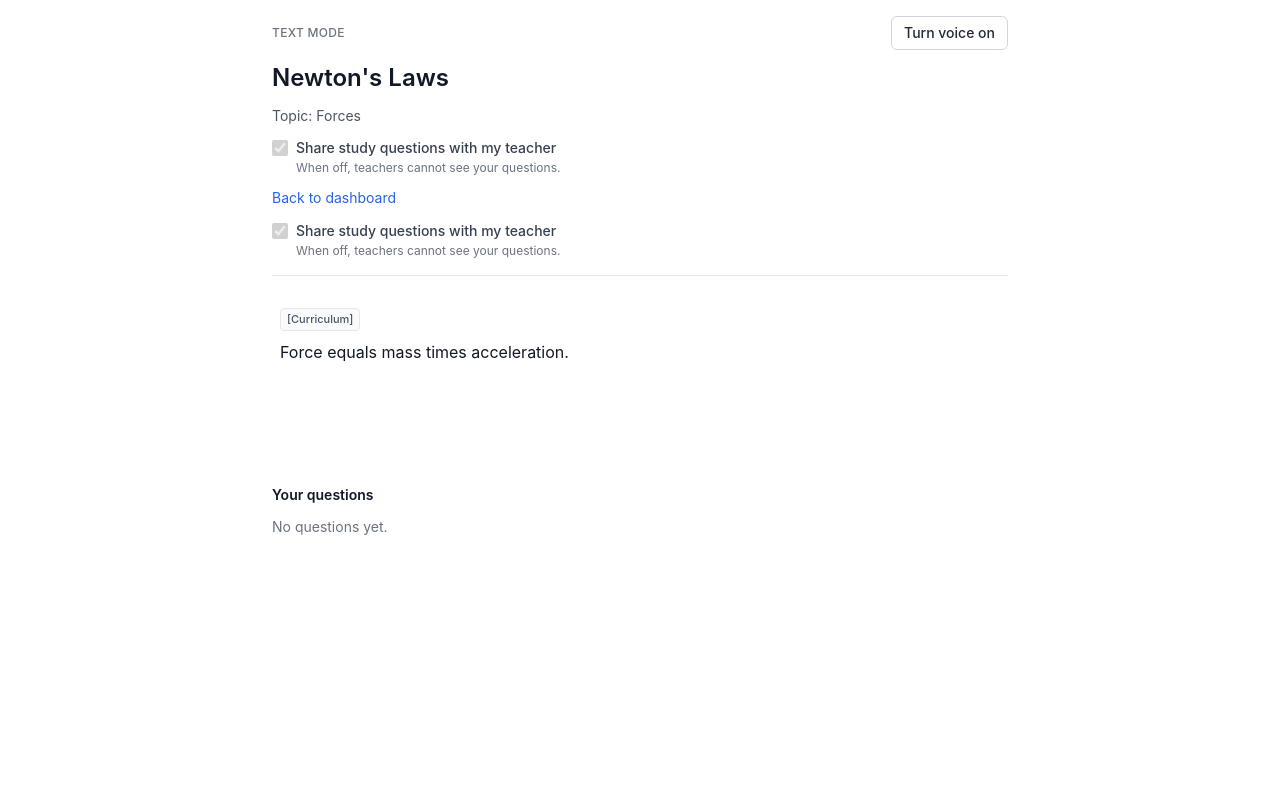
Test: LectureViewerClient karaoke (T-154) › toggles voice mode, sets session mode, and shows karaoke controls
This screenshot has width=1280, height=800.
Expected: the element with test id "lecture-viewer" is shown, [272,16,1008,534]
What coordinates should you click on to do the following:
click the button with test id "voice-mode-toggle"
I would click on:
 (950, 33)
Its box is [891,16,1008,50].
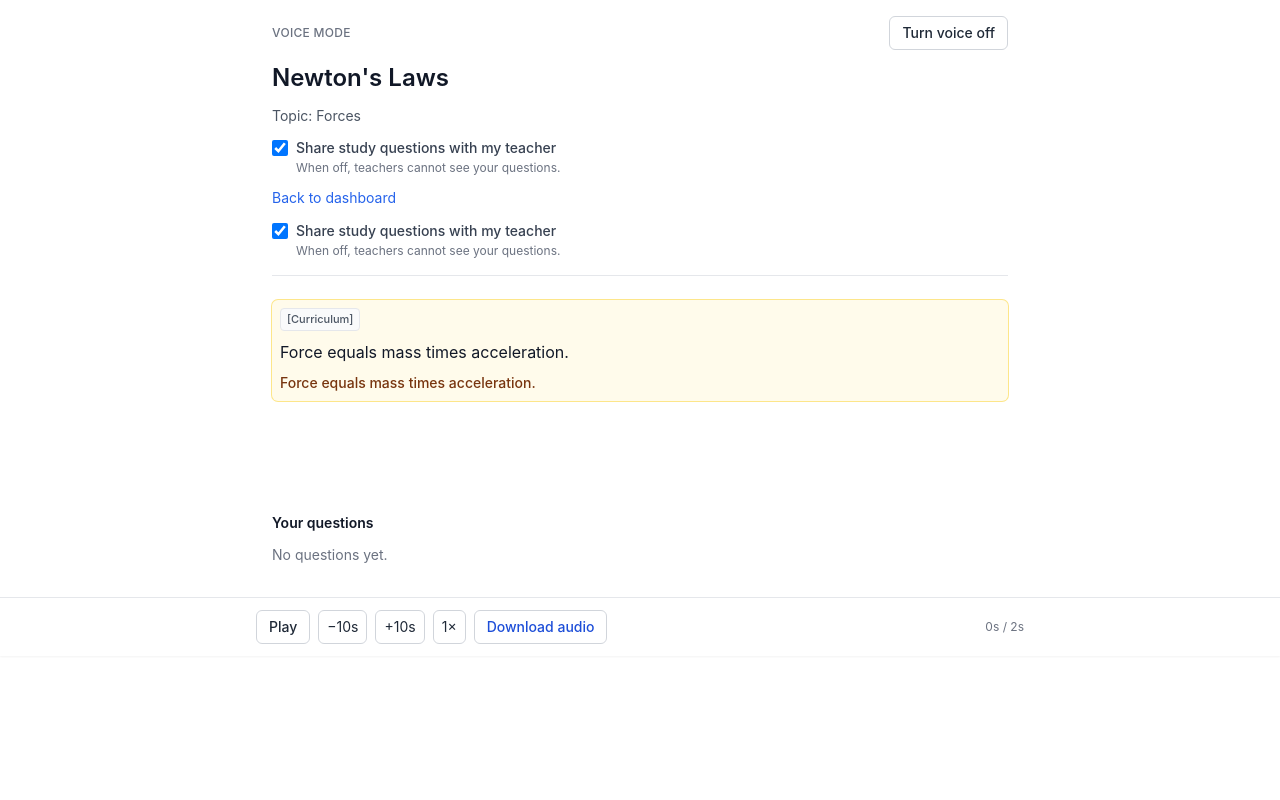
Expected: the element with test id "karaoke-player" is shown, [0,596,1279,656]
Expected: the button with test id "karaoke-play-pause" is shown, [256,610,310,644]
Expected: the button with test id "karaoke-seek-back" is shown, [318,610,368,644]
